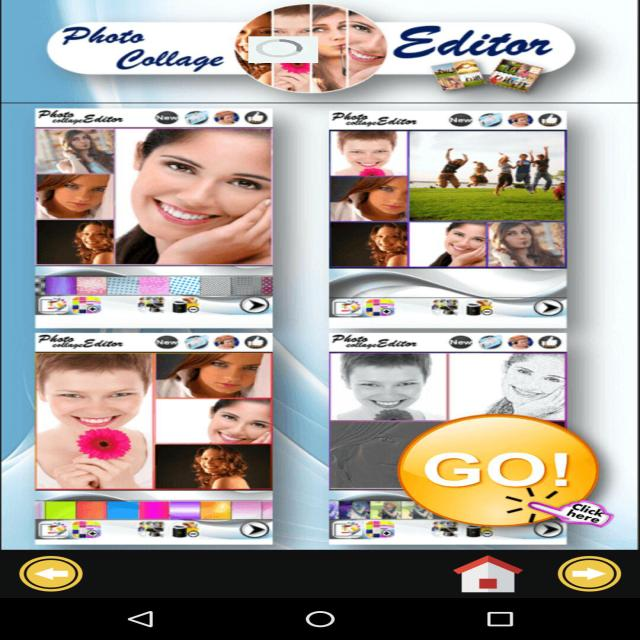misdirection: (248, 36, 318, 63)
